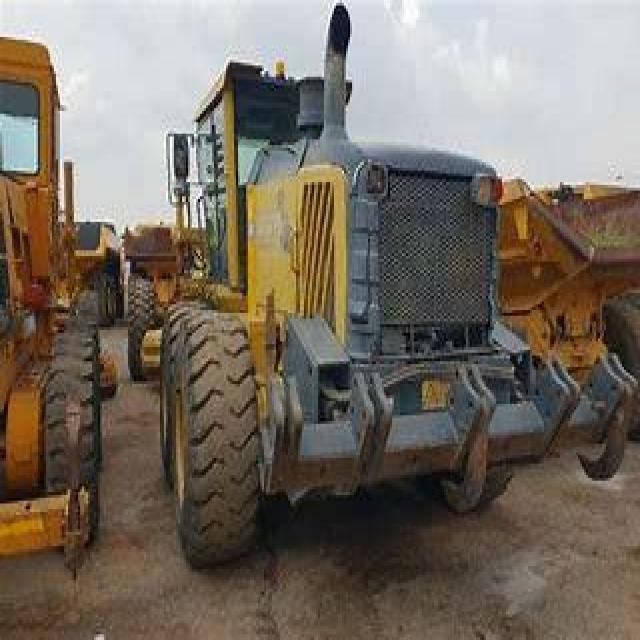Grader: (108, 26, 596, 574)
